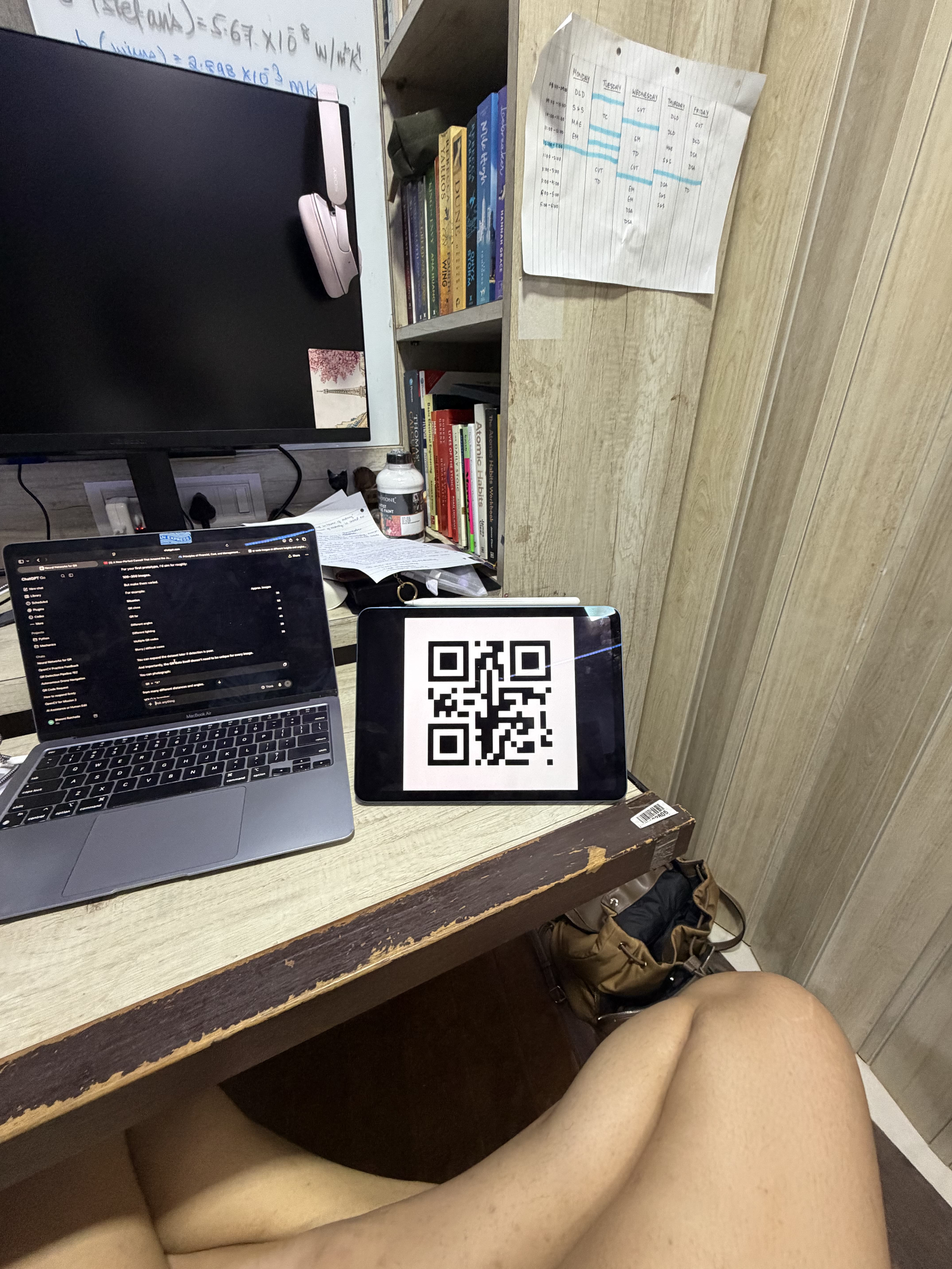QR: (424, 635, 559, 770)
